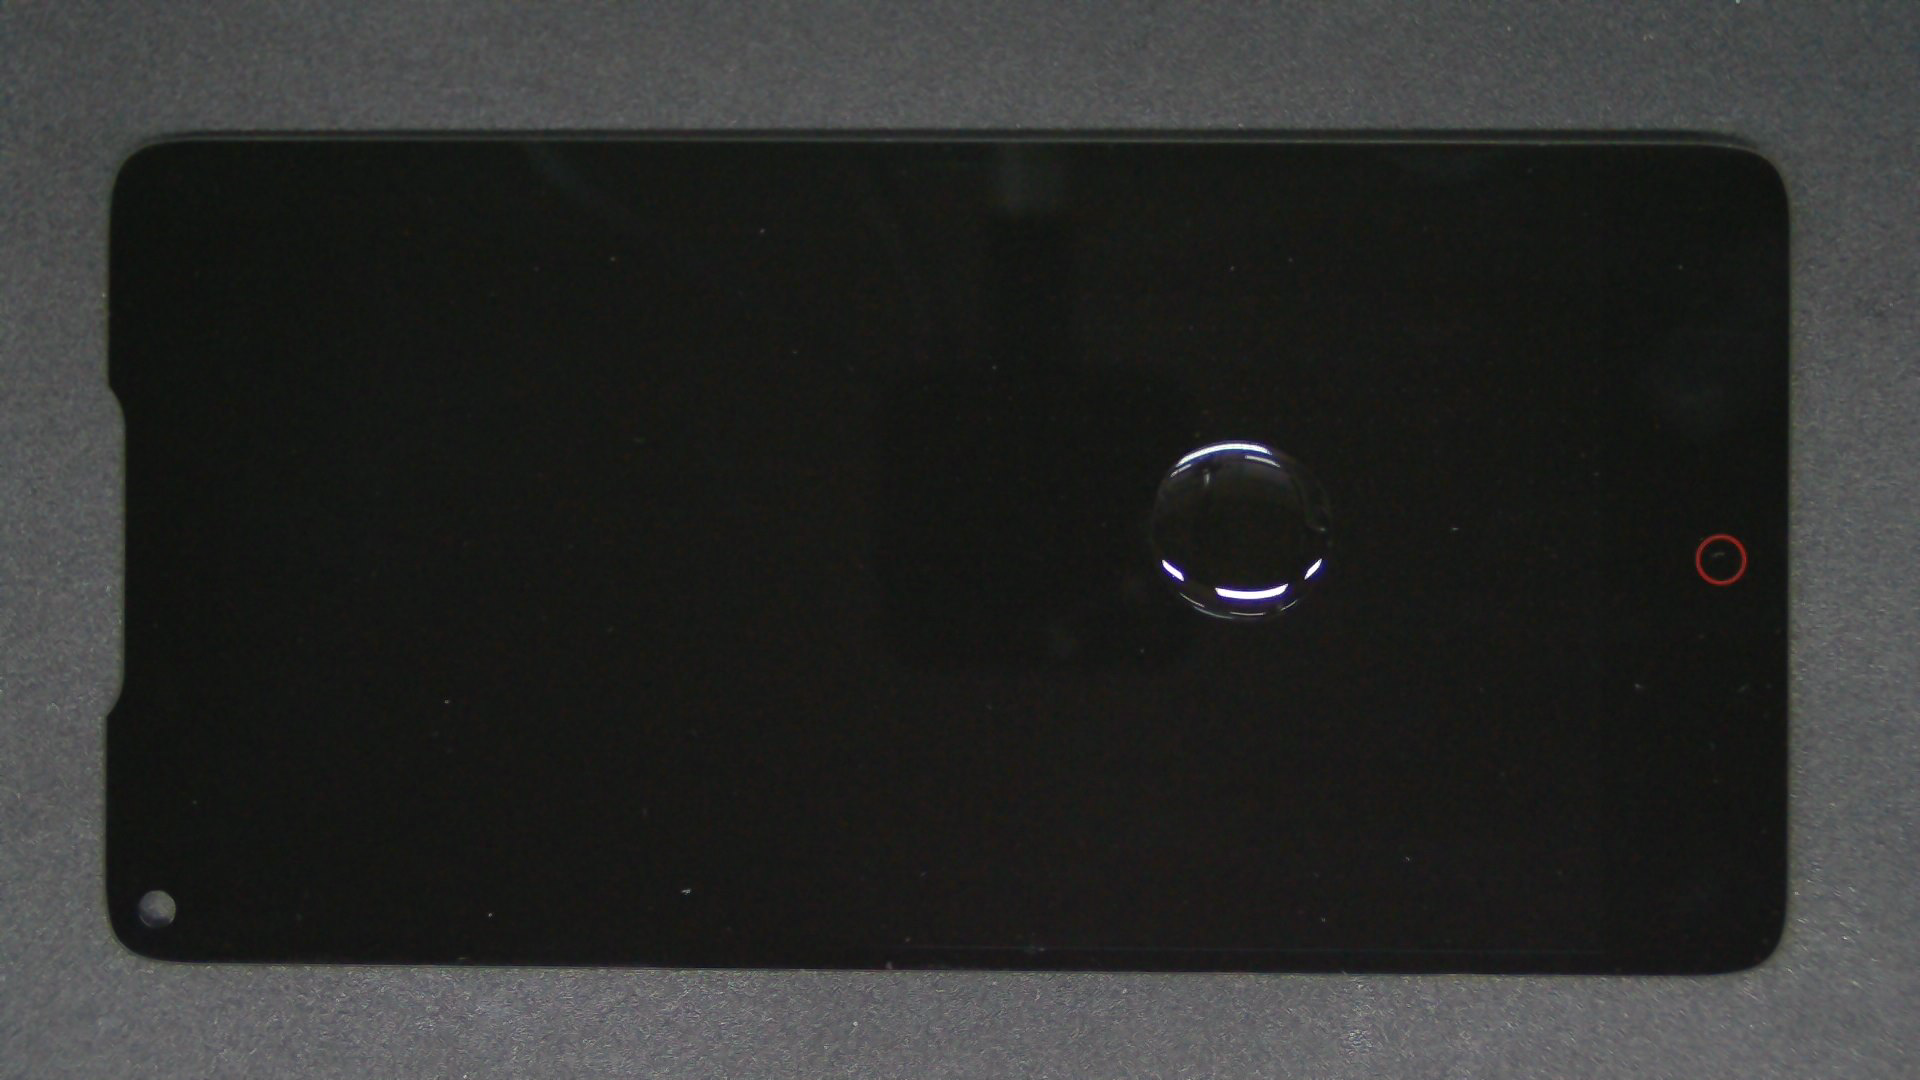defect: (1149, 440, 1335, 622)
